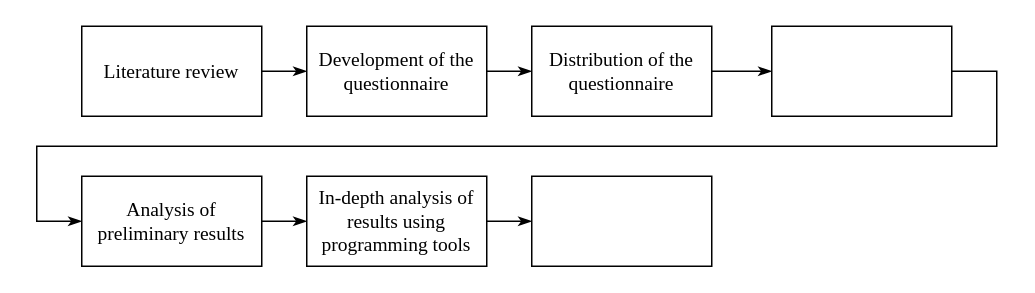
This 1035x293 diagram has some shape labels left out. Here are the shapes that lost their labels. From the top down, the centre of each, then its label:
At point (861, 70): "Collecting data from questionnaires".
At point (621, 220): "Drawing conclusions".
